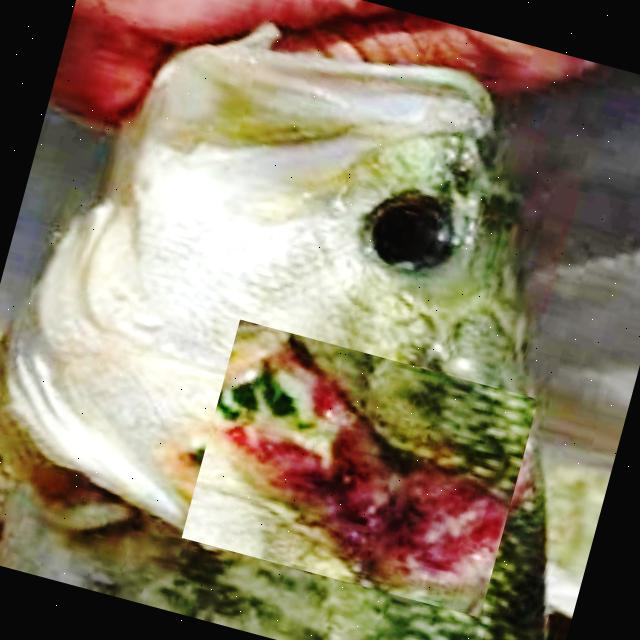Aeromonas Septicemia: (0, 23, 546, 640)
